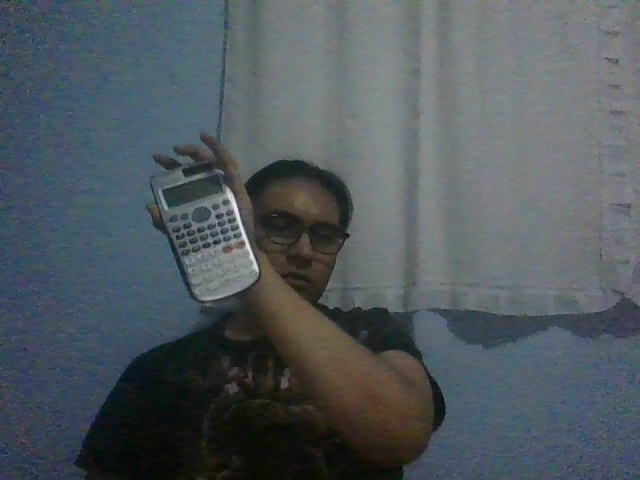calculadora: (148, 159, 261, 303)
